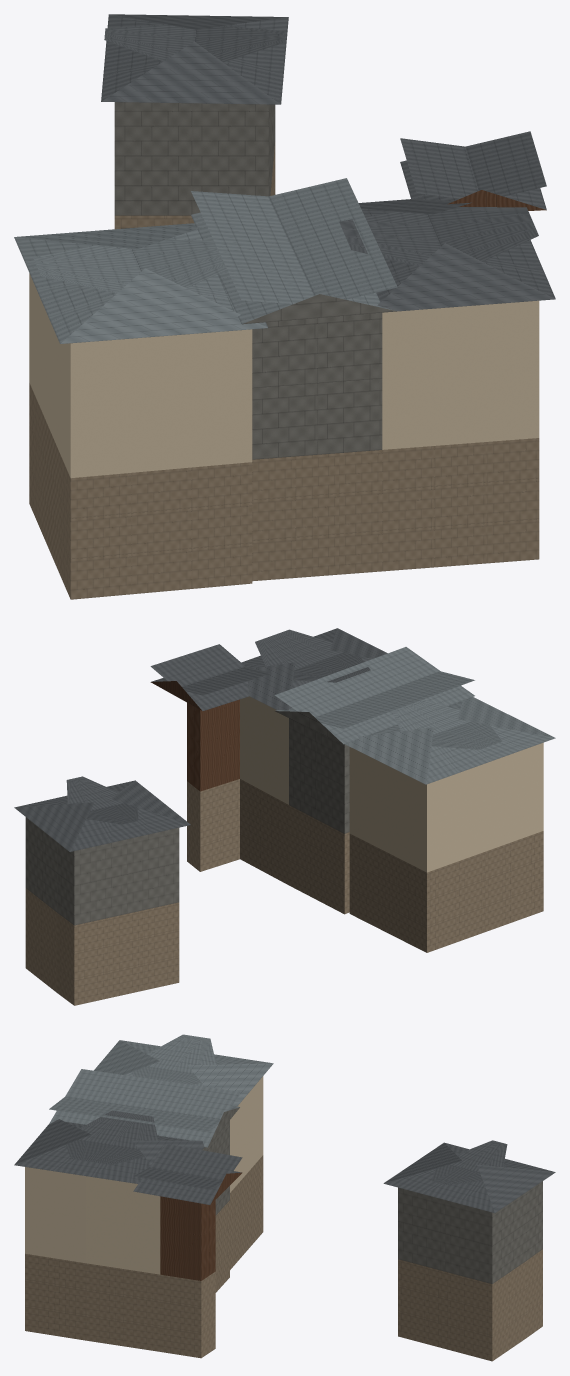
The model's file is bld_c13_46_505.gltf.
3 views of the same model, one above another, from view 1: azimuth 30°, elevation 25°; view 2: azimuth 150°, elevation 25°; view 3: azimuth 270°, elevation 25° (orthographic). The views are drawn at different scales.
Visible parts, largest first — view 1: bld_c13_46_505; view 2: bld_c13_46_505; view 3: bld_c13_46_505.
Part boxes in pixels (<box>): bld_c13_46_505: <box>14,14,555,599</box>; bld_c13_46_505: <box>14,628,555,1005</box>; bld_c13_46_505: <box>14,1034,555,1361</box>.
Bounding box in the file's own units: 23.79 × 12.2 × 32.41.
Materials: 8 (8 with a texture image).
